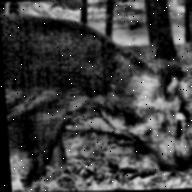boar: (0, 0, 192, 181)
